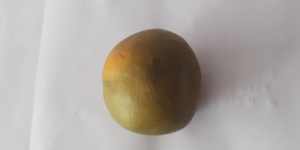BAD: (100, 26, 204, 137)
